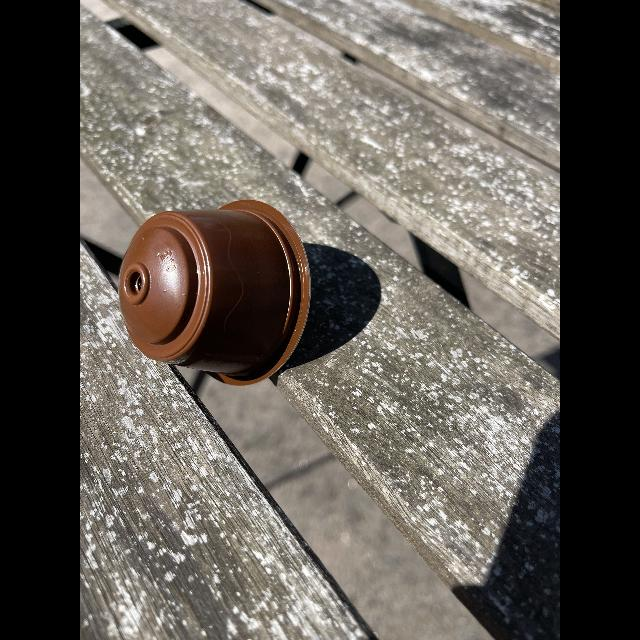intact_capsule: (112, 191, 318, 395)
